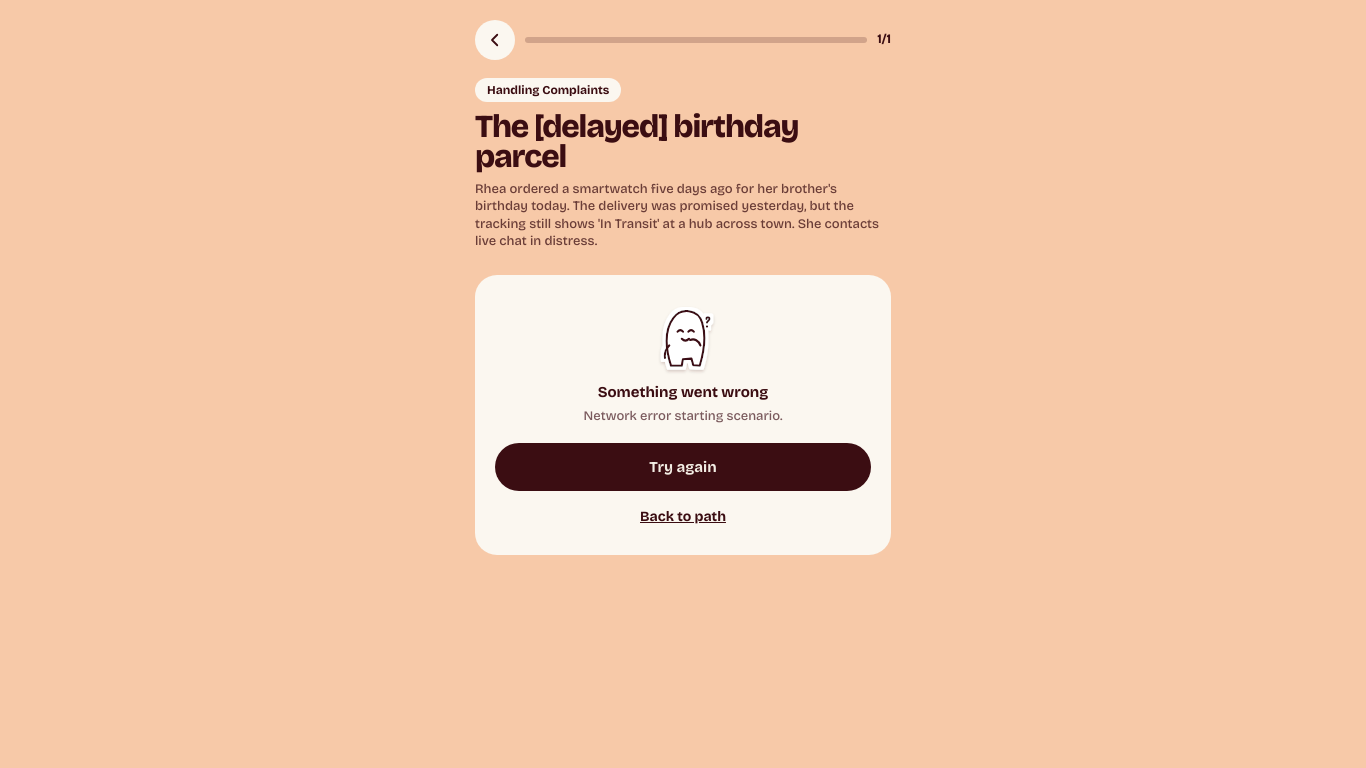
it: ScenarioPlayer › shows error alert when onStart fails, and retries successfully when Try again is clicked
This screenshot has width=1366, height=768.
Check: the message "Something went wrong Network error starting scenario. Try again Back to path" is shown, box [475,275,891,555]
Check: the text "Network error starting scenario." is shown, box [584,408,782,424]
// Click "Try again"
Click the button "Try again" at (683,467), box [495,443,871,491]
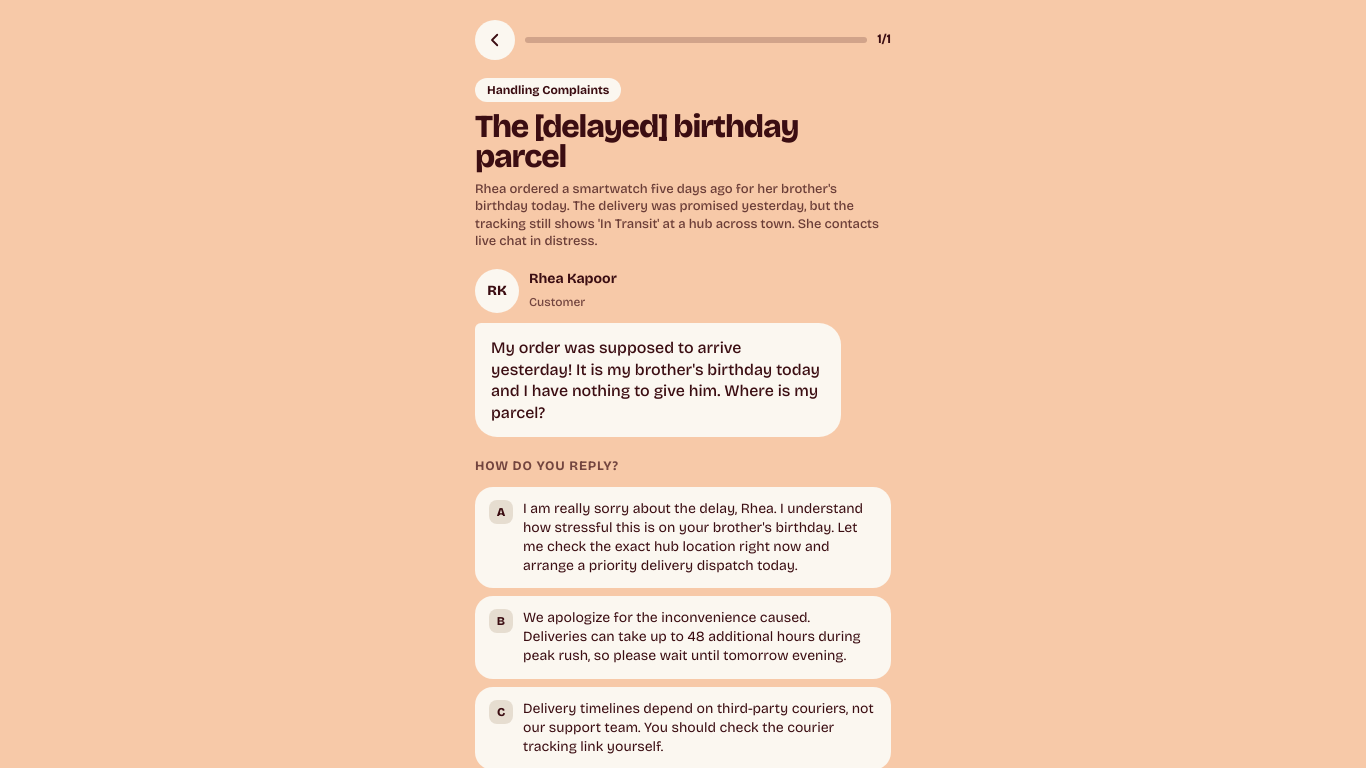
Check: the text "My order was supposed to arrive yesterday! It is my brother's birthday today and I have nothing to give him. Where is my" is shown, box [491,338,820,422]
